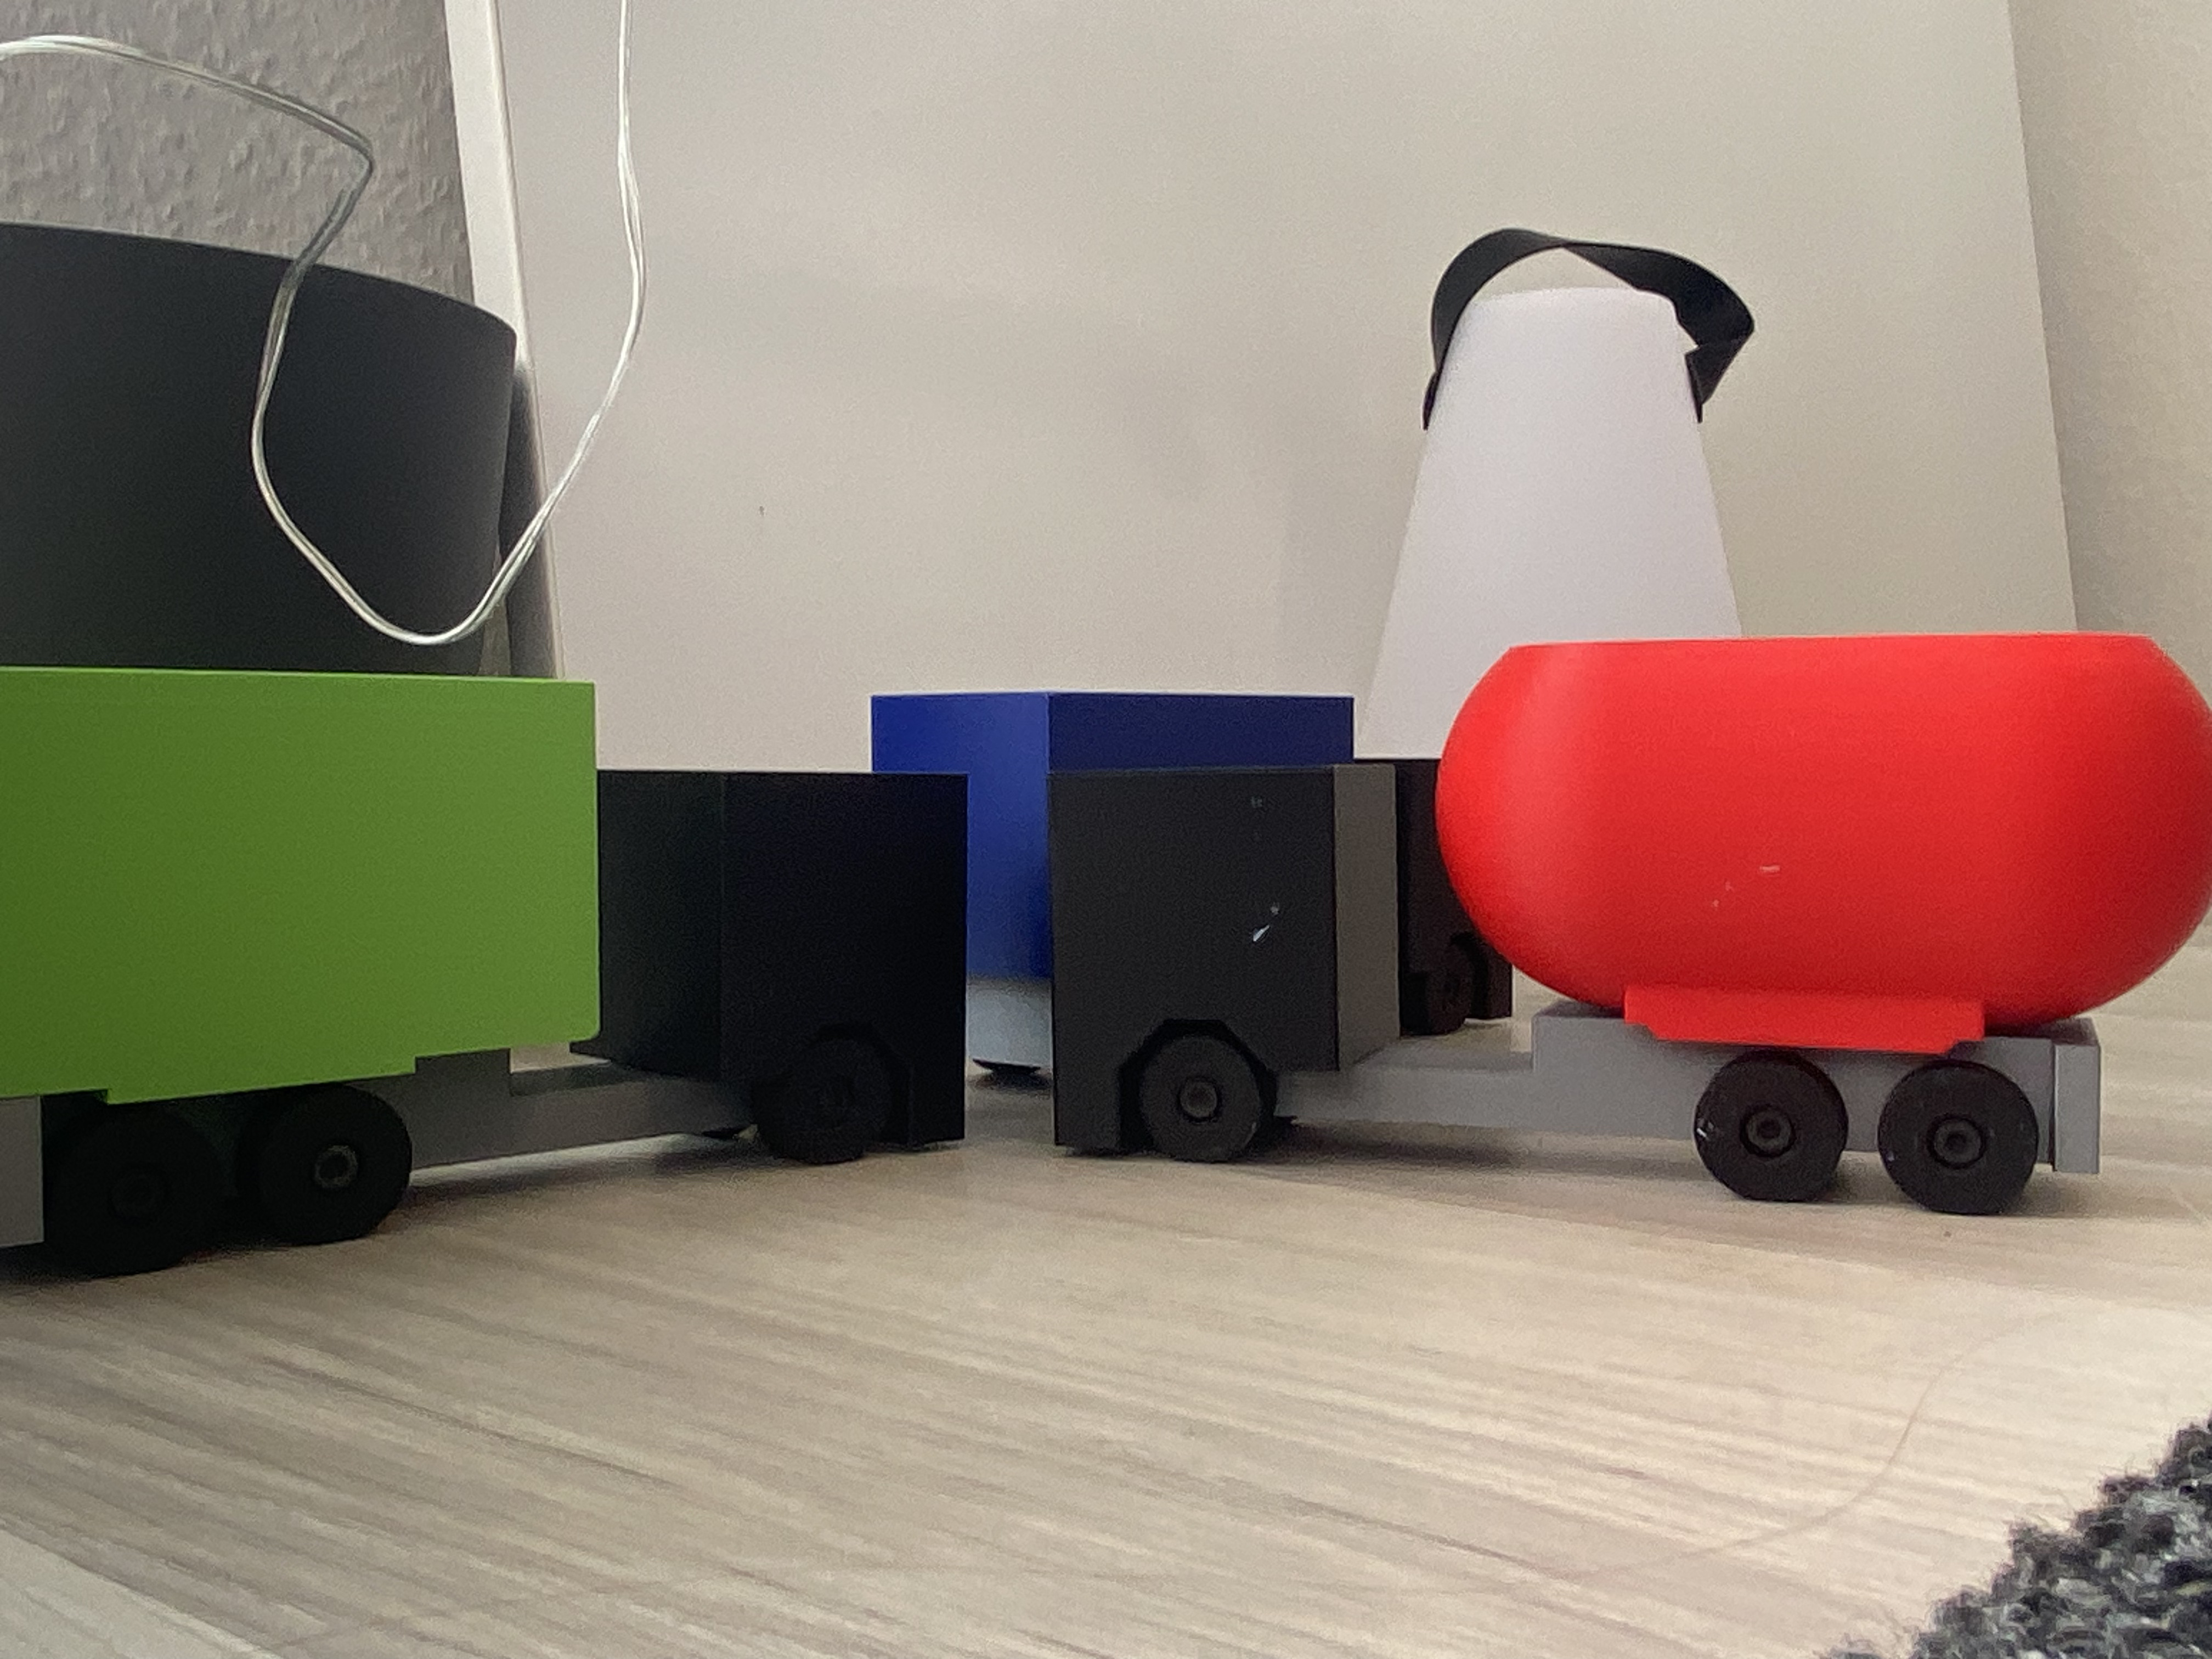blue_truck: (907, 652, 1346, 1143)
green_truck: (355, 633, 911, 1286)
red_truck: (1318, 368, 1897, 1478)
